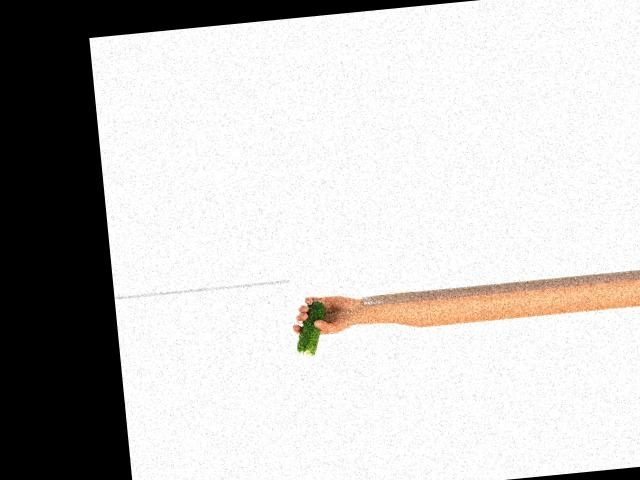cucumber: (293, 299, 329, 356)
